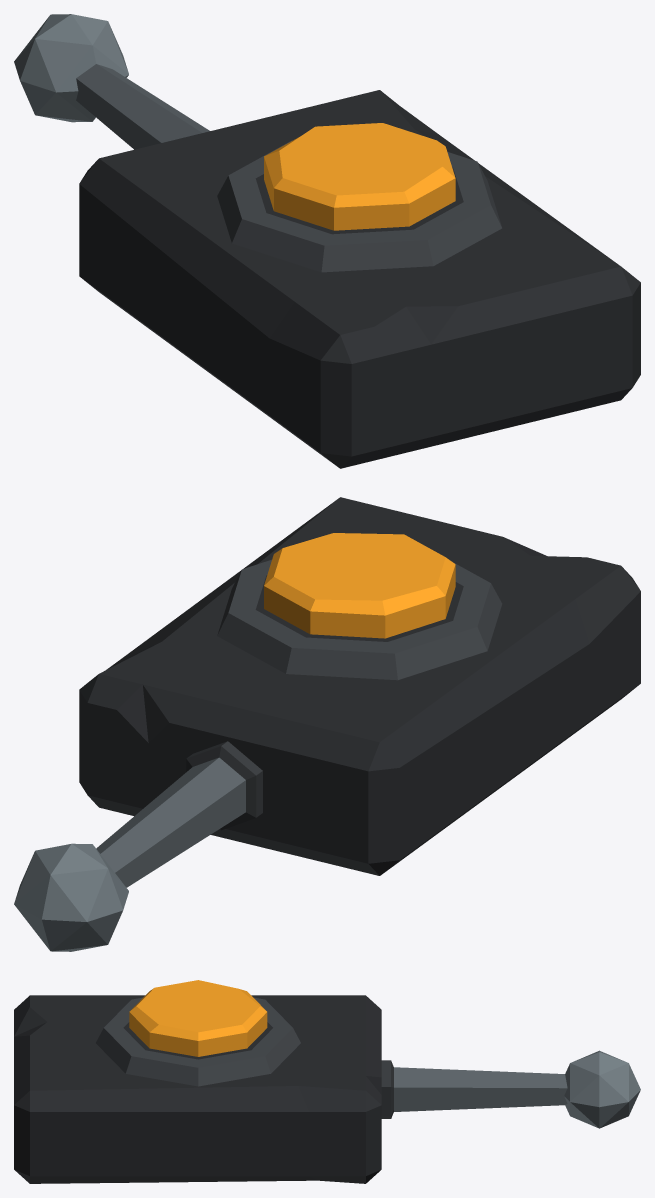
Rendered from SM_Switch_Remote_01.fbx.
3 views of the same model, one above another, from view 1: azimuth 30°, elevation 25°; view 2: azimuth 150°, elevation 25°; view 3: azimuth 270°, elevation 25° (orthographic). The views are drawn at different scales.
Visible parts, largest first — view 1: SM_Switch_Remote_01, SM_Switch_Remote_Button_01; view 2: SM_Switch_Remote_01, SM_Switch_Remote_Button_01; view 3: SM_Switch_Remote_01, SM_Switch_Remote_Button_01.
Boxes of the visible parts, x1,y1,x2,y2 form: SM_Switch_Remote_01: (14, 14, 640, 468); SM_Switch_Remote_Button_01: (264, 123, 455, 230); SM_Switch_Remote_01: (14, 497, 640, 951); SM_Switch_Remote_Button_01: (264, 533, 455, 638); SM_Switch_Remote_01: (14, 995, 640, 1183); SM_Switch_Remote_Button_01: (129, 980, 267, 1056).
Bounding box in the file's own units: 16.26 × 9.06 × 39.58.
